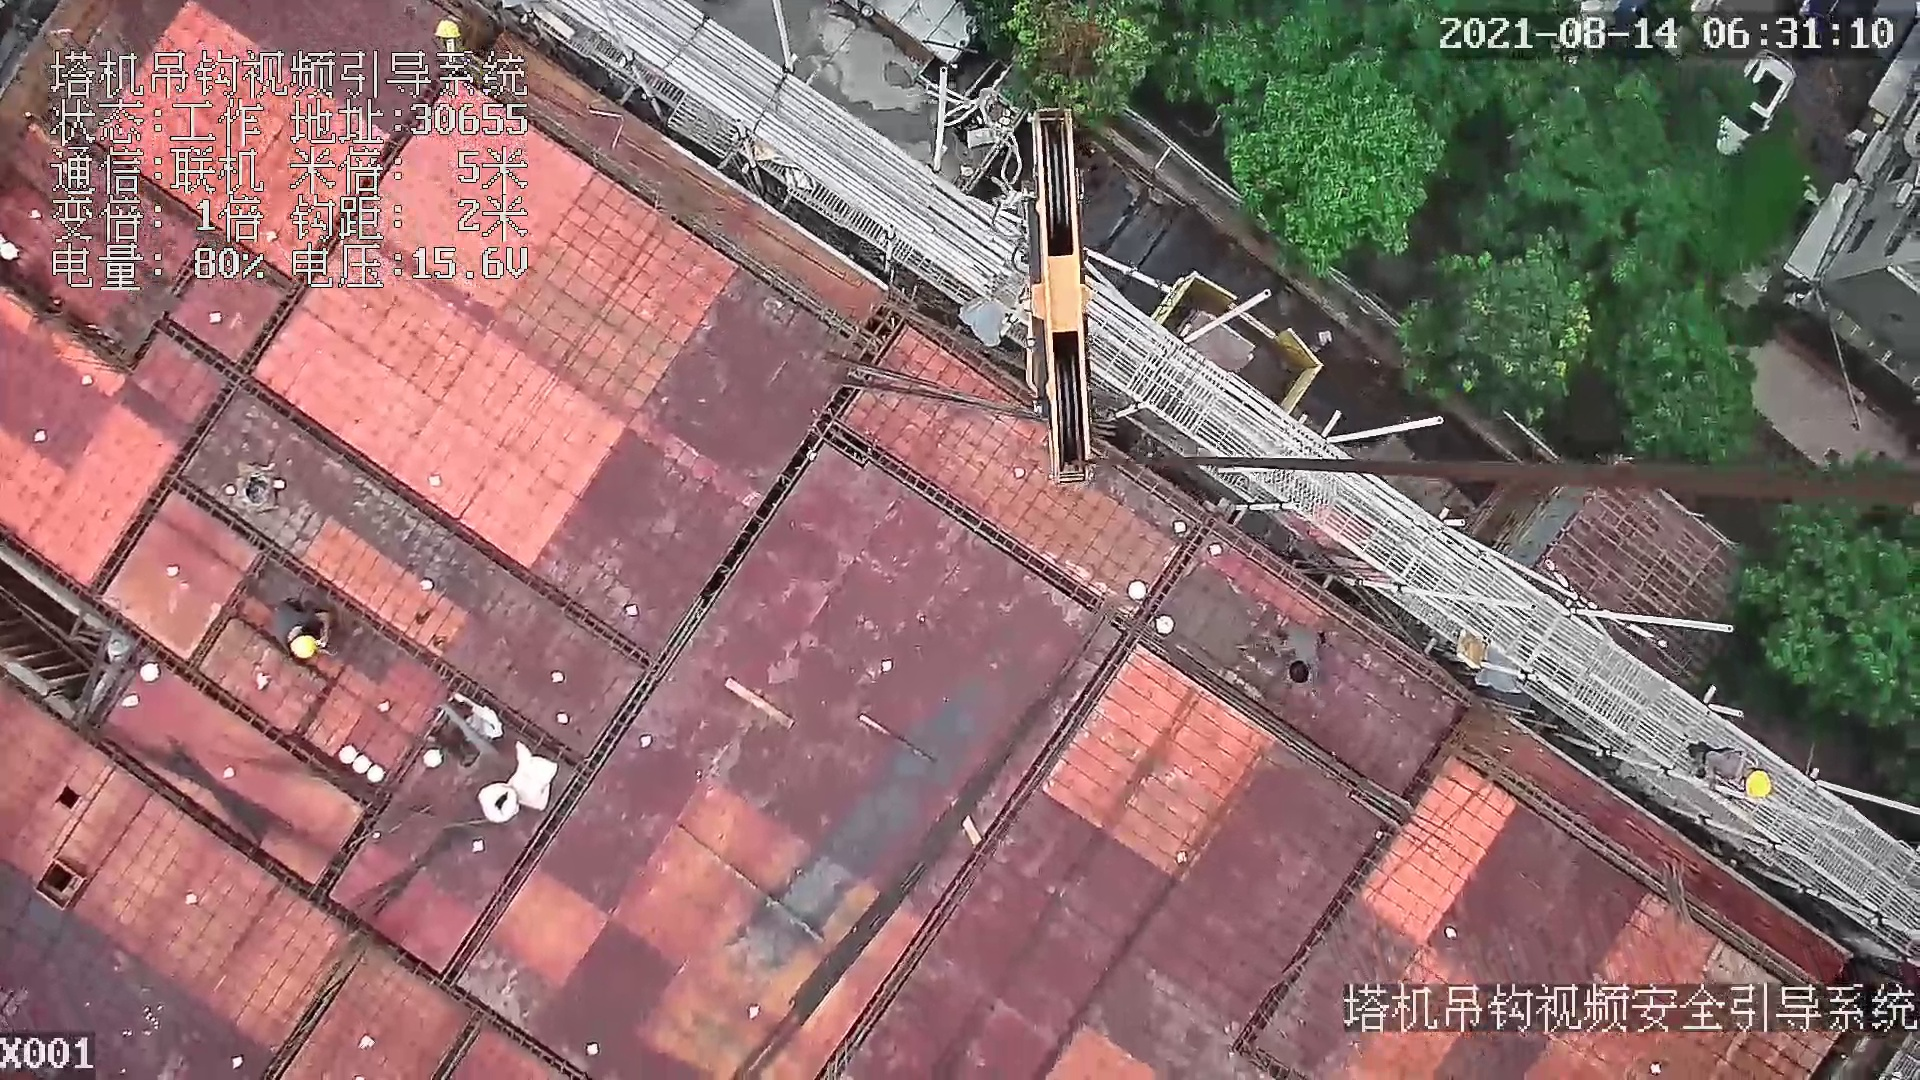helmet: (1744, 771, 1774, 797), (432, 19, 464, 39), (290, 635, 318, 660)
hook: (1009, 106, 1105, 491)
person: (1685, 733, 1779, 801), (272, 594, 337, 665)
